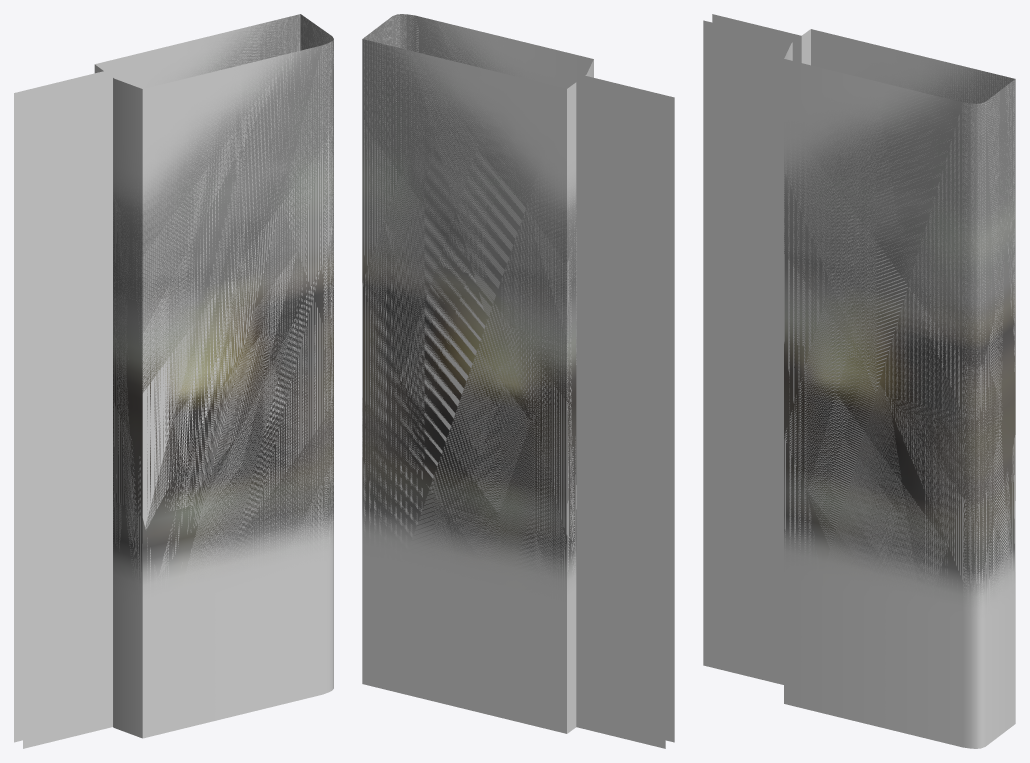
File: original-64.obj
The picture shows the model from 3 angles, left to right: view 1: azimuth 30°, elevation 25°; view 2: azimuth 150°, elevation 25°; view 3: azimuth 330°, elevation 25°; orthographic projection.
Visible parts, largest first — view 1: DF_21_CR1/DF_21_CR/mesh45/mesh45-geometry#mesh45-geometry; view 2: DF_21_CR1/DF_21_CR/mesh45/mesh45-geometry#mesh45-geometry; view 3: DF_21_CR1/DF_21_CR/mesh45/mesh45-geometry#mesh45-geometry.
Boxes of the visible parts, <box> form: DF_21_CR1/DF_21_CR/mesh45/mesh45-geometry#mesh45-geometry: <box>14,14,333,748</box>; DF_21_CR1/DF_21_CR/mesh45/mesh45-geometry#mesh45-geometry: <box>362,14,674,748</box>; DF_21_CR1/DF_21_CR/mesh45/mesh45-geometry#mesh45-geometry: <box>703,14,1015,748</box>.
Size of the model in its own units: 0.1444 by 0.3019 by 0.0316.
